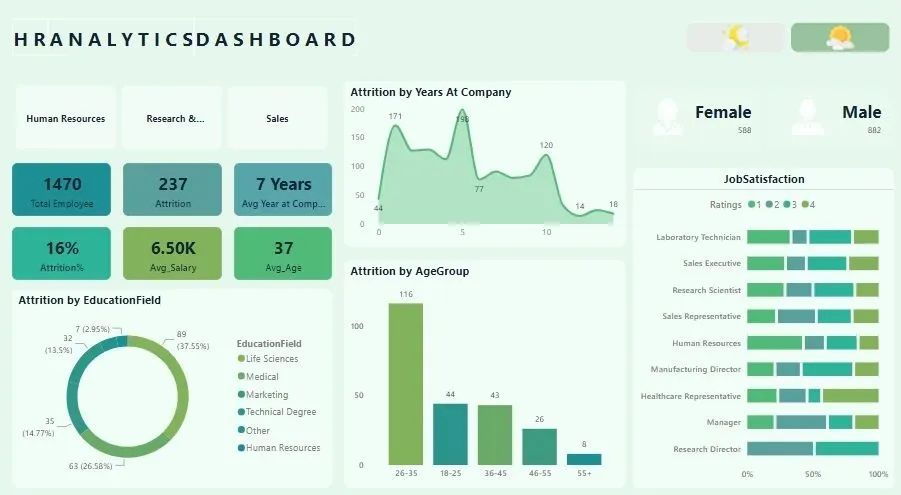

This screenshot's page, from the dashboard's own definition file:
{"tool":"powerbi","page":{"name":"HR Analytics Dashboard - Light &Dark Theme","canvas":[1280,720],"ordinal":1},"visuals":[{"type":"shape","box":[0,0,1279.8,720],"z":0},{"type":"shape","box":[19.8,39.7,51,52.4],"z":0,"group":"g1"},{"type":"shape","box":[70.8,39.7,206.9,52.4],"z":1000,"group":"g1"},{"type":"image","box":[918.4,143.1,60.9,70.9],"z":1000},{"type":"shape","box":[277.8,39.7,229.6,52.4],"z":2000,"group":"g1"},{"type":"image","box":[1116.9,143.1,60.9,70.9],"z":2000},{"type":"card","fields":{"Values":["HR_Analytics.Employee_Attrition"]},"box":[177.2,243.8,140.3,75.1],"z":3000},{"type":"card","fields":{"Values":["HR_Analytics.Employee_Count"]},"box":[19.8,243.8,140.3,75.1],"z":4000},{"type":"card","fields":{"Values":["HR_Analytics.Years_with_Text"]},"box":[334.5,243.8,138.9,75.1],"z":5000},{"type":"card","fields":{"Values":["HR_Analytics.Attrition%"]},"box":[19.8,334.5,140.3,75.1],"z":6000},{"type":"card","fields":{"Values":["HR_Analytics.Avg_Salary"]},"box":[177.2,334.5,140.3,75.1],"z":7000},{"type":"card","fields":{"Values":["HR_Analytics.Avg_Age"]},"box":[334.5,334.5,138.9,75.1],"z":8000},{"type":"areaChart","title":"Attrition by Years At Company","fields":{"Category":["HR_Analytics.YearsAtCompany"],"Y":["CountNonNull(HR_Analytics.Attrition)"]},"box":[491,128.2,398.9,234.7],"z":9000},{"type":"clusteredColumnChart","title":"Attrition by AgeGroup","fields":{"Category":["HR_Analytics.AgeGroup"],"Y":["HR_Analytics.Employee_Attrition"]},"box":[491,381.6,398.9,322.6],"z":10000},{"type":"hundredPercentStackedBarChart","title":"JobSatisfaction","fields":{"Y":["HR_Analytics.Employee_Attrition"],"Series":["HR_Analytics.JobSatisfaction"],"Category":["HR_Analytics.JobRole"]},"box":[900,250.6,370.1,453.6],"z":11000},{"type":"advancedSlicerVisual","fields":{"Values":["HR_Analytics.Gender"]},"box":[899.6,128.7,370.3,100],"z":12000},{"type":"advancedSlicerVisual","fields":{"Values":["HR_Analytics.Department"]},"box":[19.8,129,453.5,100.6],"z":13000},{"type":"donutChart","title":"Attrition by EducationField","fields":{"Y":["HR_Analytics.Employee_Attrition"],"Category":["HR_Analytics.EducationField"]},"box":[19.8,422.4,453.5,282],"z":14000},{"type":"advancedSlicerVisual","fields":{"Values":["Dark Mode.Label"]},"box":[970.9,39.7,299.1,52.4],"z":15000},{"type":"group","id":"g1","title":"Group 1","box":[19.8,39.7,487.6,52.4],"z":16003}]}

Visuals, with their boxes in screenshot pixels (x1, y1, x2, y2), scaled from the page's 1280x720 canvas onto the 901x495 screenshot:
shape: 0/0/900/494
shape: 14/27/50/63
shape: 50/27/195/63
image: 646/98/689/147
shape: 196/27/357/63
image: 786/98/829/147
card - HR_Analytics.Employee_Attrition: 125/168/223/219
card - HR_Analytics.Employee_Count: 14/168/113/219
card - HR_Analytics.Years_with_Text: 235/168/333/219
card - HR_Analytics.Attrition%: 14/230/113/282
card - HR_Analytics.Avg_Salary: 125/230/223/282
card - HR_Analytics.Avg_Age: 235/230/333/282
"Attrition by Years At Company" areaChart: 346/88/626/249
"Attrition by AgeGroup" clusteredColumnChart: 346/262/626/484
"JobSatisfaction" hundredPercentStackedBarChart: 634/172/894/484
advancedSlicerVisual - HR_Analytics.Gender: 633/88/894/157
advancedSlicerVisual - HR_Analytics.Department: 14/89/333/158
"Attrition by EducationField" donutChart: 14/290/333/484
advancedSlicerVisual - Dark Mode.Label: 683/27/894/63
"Group 1" group: 14/27/357/63
